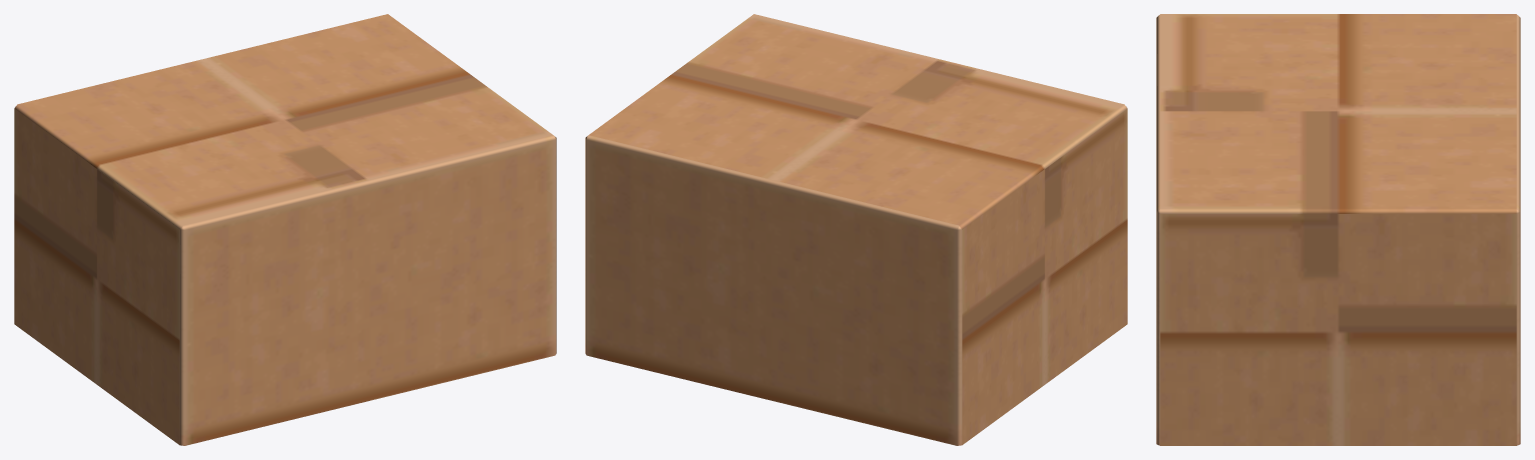
The model's file is rmk_oth_box01.dae.
3 renders of one model, left to right at view 1: azimuth 30°, elevation 25°; view 2: azimuth 150°, elevation 25°; view 3: azimuth 270°, elevation 25°, orthographic. The views are drawn at different scales.
Parts seen in each view (by area): view 1: rmk_oth_box01; view 2: rmk_oth_box01; view 3: rmk_oth_box01.
Boxes of the visible parts, box(x1,y1,x2,y2) form: rmk_oth_box01: box(14, 14, 556, 445); rmk_oth_box01: box(585, 14, 1127, 445); rmk_oth_box01: box(1156, 14, 1520, 445).
Size of the model in its own units: 28.8 by 16 by 22.4.
Materials: 1 (1 with a texture image).
